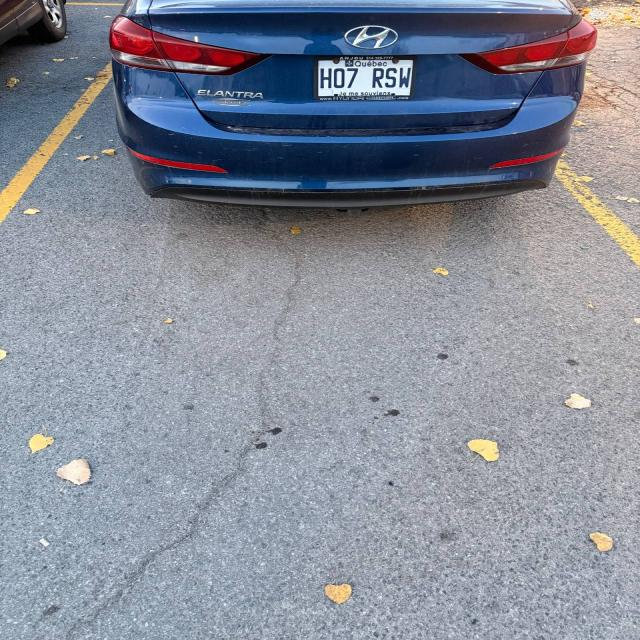plaque: (316, 56, 413, 100)
